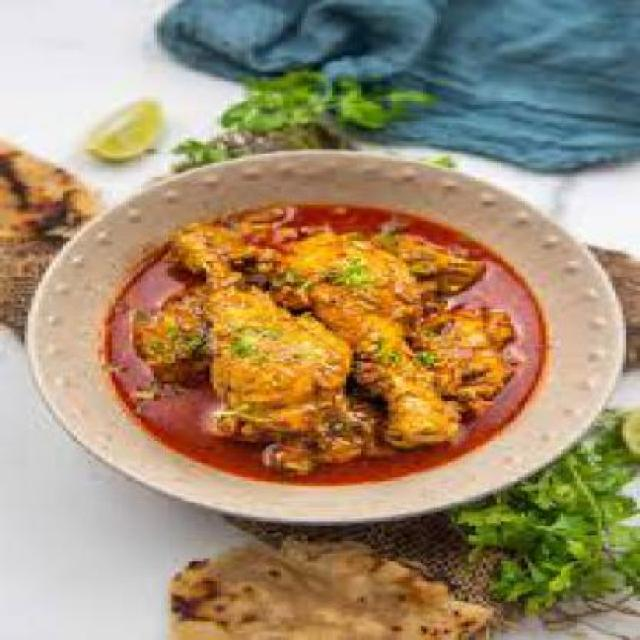CHICKEN CURRY: (105, 202, 547, 489)
